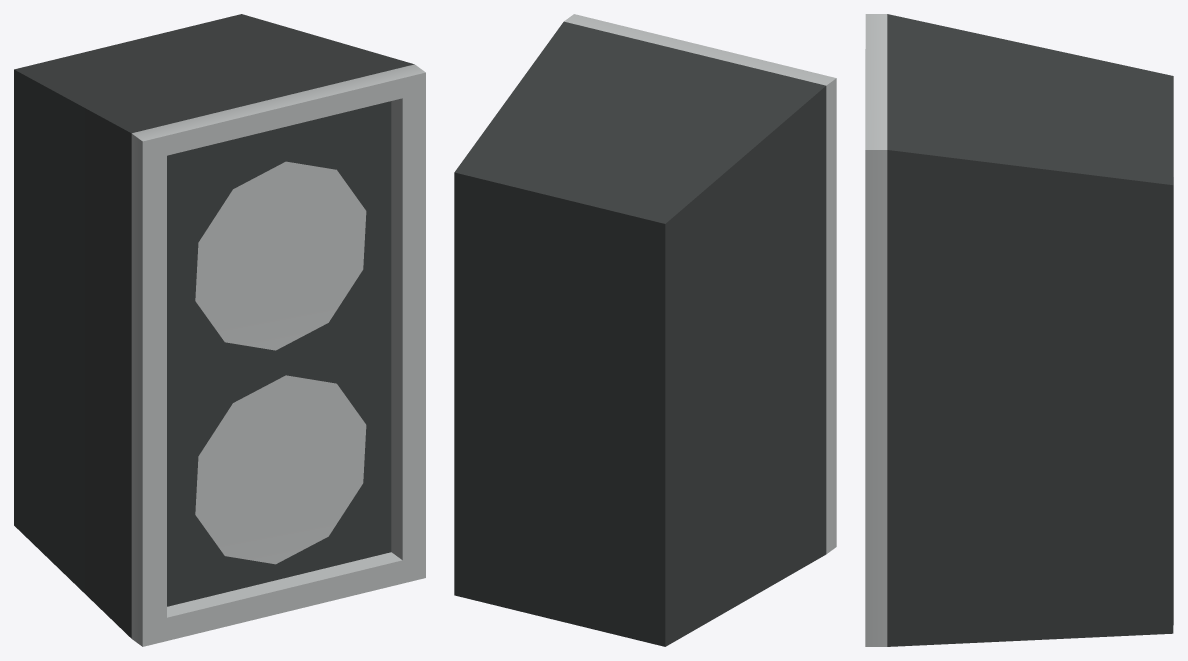
The model's file is Speaker_Art.fbx.
3 views of the same model, side by side, from view 1: azimuth 30°, elevation 25°; view 2: azimuth 150°, elevation 25°; view 3: azimuth 270°, elevation 25° (orthographic). The views are drawn at different scales.
Visible parts, largest first — view 1: Oktoberfest_Speaker; view 2: Oktoberfest_Speaker; view 3: Oktoberfest_Speaker.
Boxes of the visible parts, box(x1,y1,x2,y2) form: Oktoberfest_Speaker: box(14, 14, 425, 646); Oktoberfest_Speaker: box(454, 14, 836, 646); Oktoberfest_Speaker: box(865, 14, 1173, 646).
Size of the model in its own units: 111 by 189 by 106.
1 material, 1 textured.
